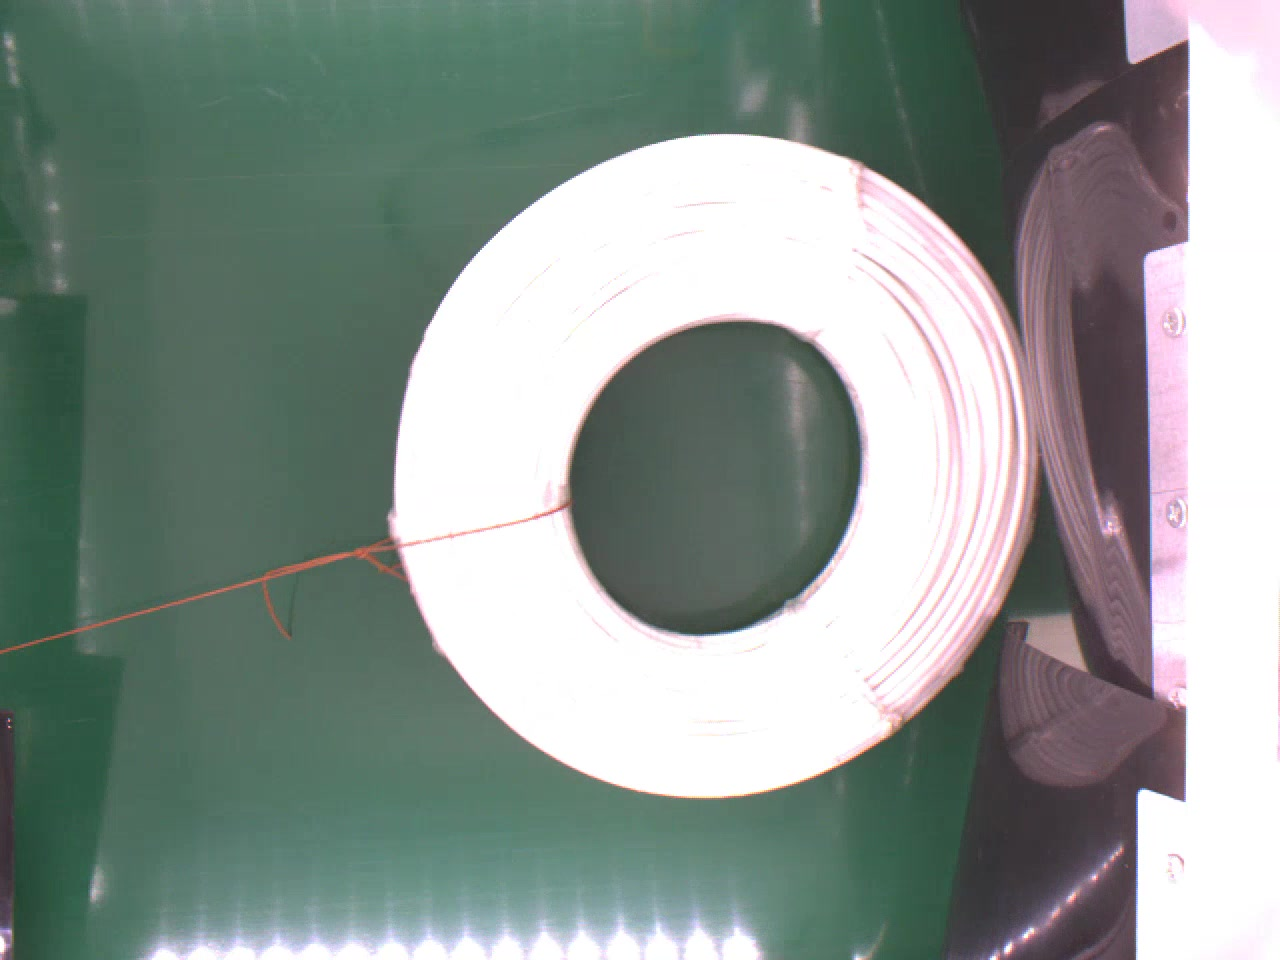white: (390, 124, 1044, 795)
